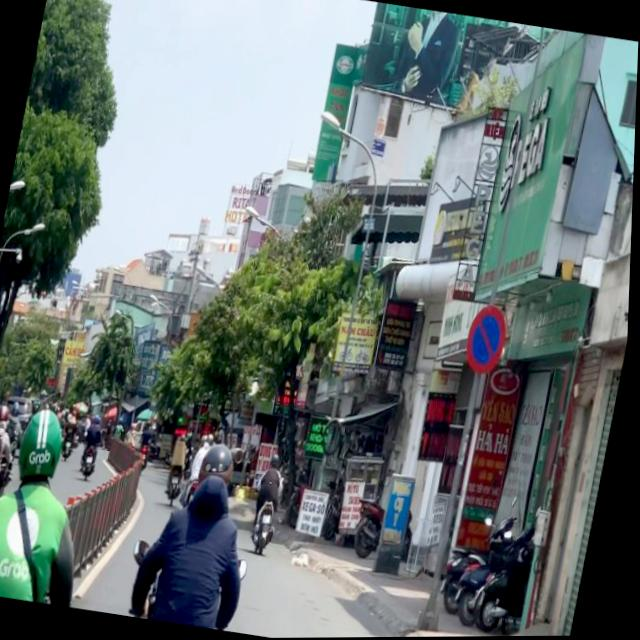Cam do xe: (463, 302, 516, 380)
